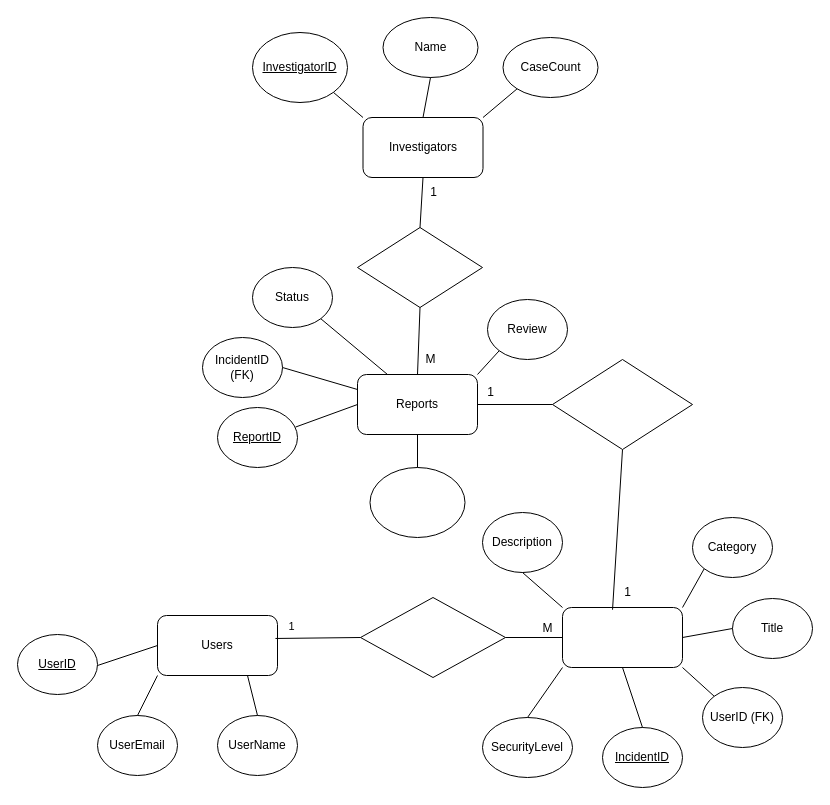
Image size: 830x805. Some labels were removed from this diagram. The shapes that lost their labels are listed below. From the top down, each one's centre as x and y in pixels, then its label:
At pixel 419 267: "Review Report".
At pixel 622 404: "Generate Report".
At pixel 417 502: "InvestigatorID (FK)".
At pixel 433 637: "Create Incident".
At pixel 622 637: "Incidents".
